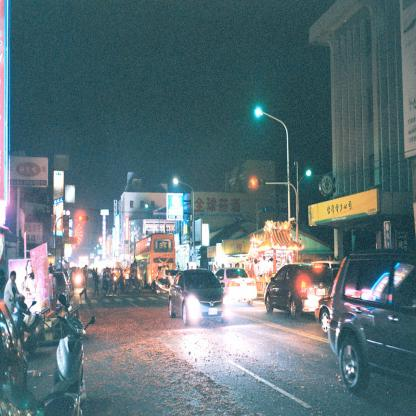Car: (330, 244, 414, 396), (262, 260, 330, 318), (170, 265, 226, 324), (219, 262, 252, 300)
